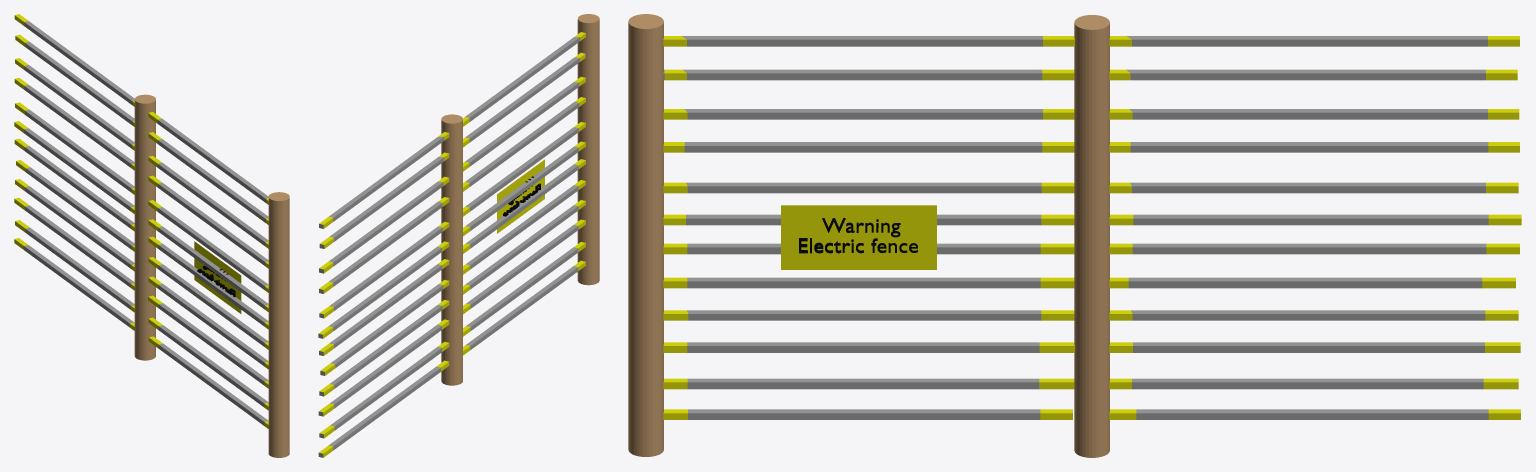
The model's file is fenceright.fbx.
3 views of the same model, side by side, from view 1: azimuth 30°, elevation 25°; view 2: azimuth 150°, elevation 25°; view 3: azimuth 270°, elevation 25° (orthographic). The views are drawn at different scales.
Visible parts, largest first — view 1: Cube; view 2: Cube; view 3: Cube, Text.
Boxes of the visible parts, x1=… form: Cube: x1=14, y1=14, x2=289, y2=457; Cube: x1=318, y1=14, x2=599, y2=457; Cube: x1=628, y1=14, x2=1521, y2=457; Text: x1=799, y1=218, x2=917, y2=253.
Size of the model in its own units: 106 by 1415 by 2670.
